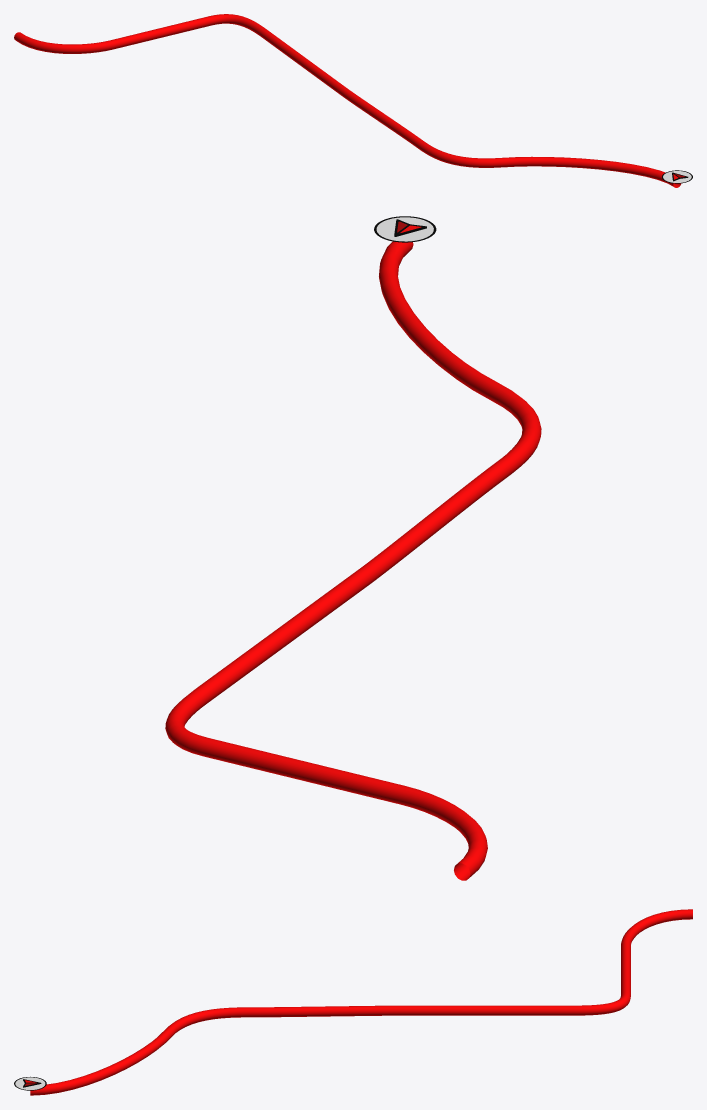
The model's file is route_f6348e5c-df1c-44d6-ba35-e54143527f93_de_single.glb.
3 views of the same model, one above another, from view 1: azimuth 30°, elevation 25°; view 2: azimuth 150°, elevation 25°; view 3: azimuth 270°, elevation 25° (orthographic). The views are drawn at different scales.
Parts seen in each view (by area): view 1: A5, Abteil 4, Navipfeil.040; view 2: A5, Abteil 4, Navipfeil.040; view 3: A5, Abteil 4, Navipfeil.040.
Boxes of the visible parts, left/top/right/bottom form: A5, Abteil 4: left=14, top=14, right=681, bottom=187; Navipfeil.040: left=662, top=170, right=692, bottom=183; A5, Abteil 4: left=165, top=241, right=541, bottom=880; Navipfeil.040: left=374, top=216, right=436, bottom=242; A5, Abteil 4: left=30, top=909, right=692, bottom=1095; Navipfeil.040: left=14, top=1076, right=46, bottom=1090.
Bounding box in the file's own units: 3.47 × 0.1062 × 5.37.
